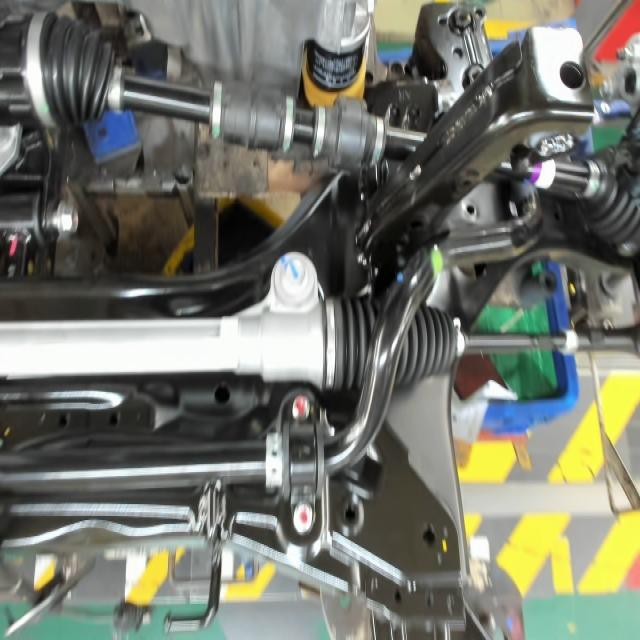Bar Stabilizer-HJ: (427, 244, 447, 284)
Drive Shaft-UG: (530, 152, 556, 192)
